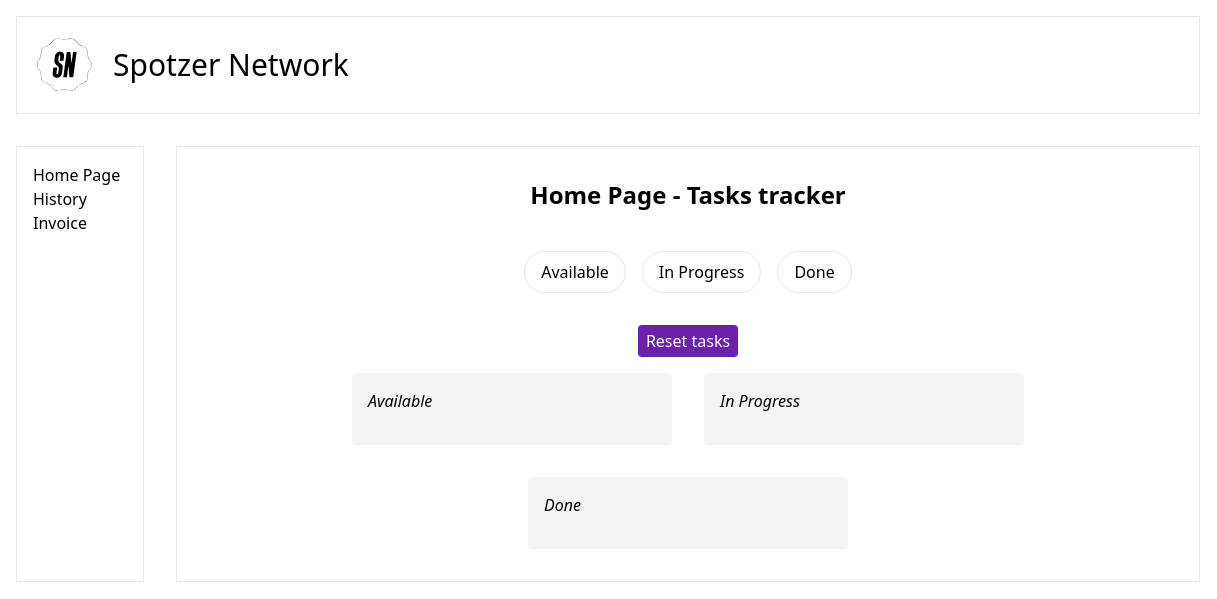
Scenario: App routing › should navigate to Invoice page on link click if authenticated
Click the link "Invoice": x=60, y=223 [33,212,87,234]
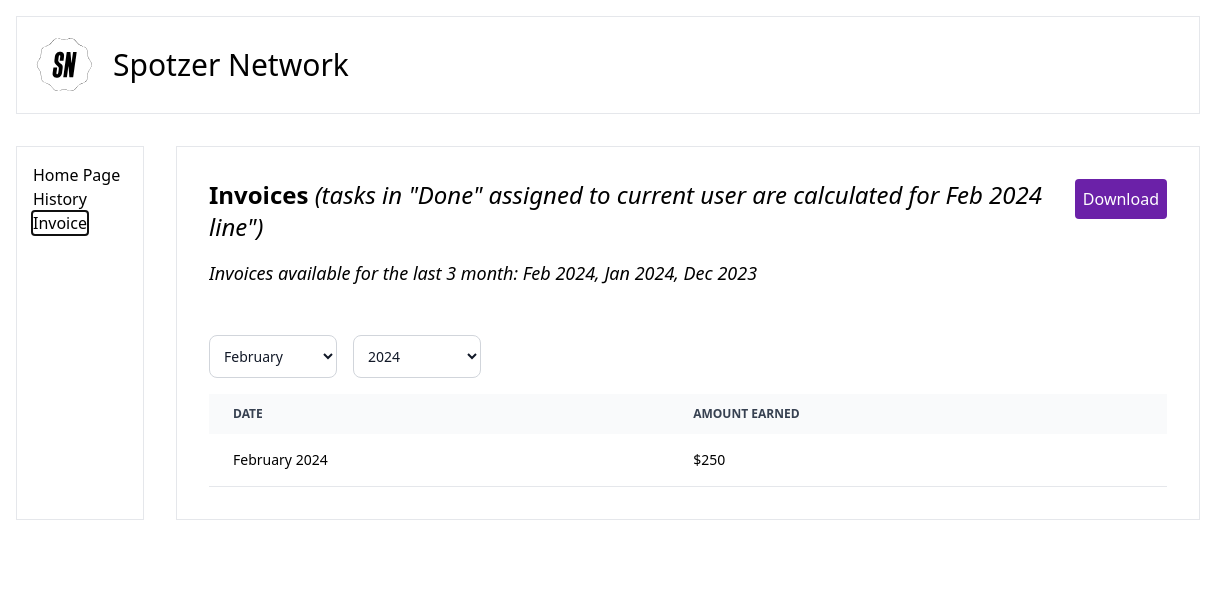
Now the button "Download" is shown, box [1075,179,1167,219]
